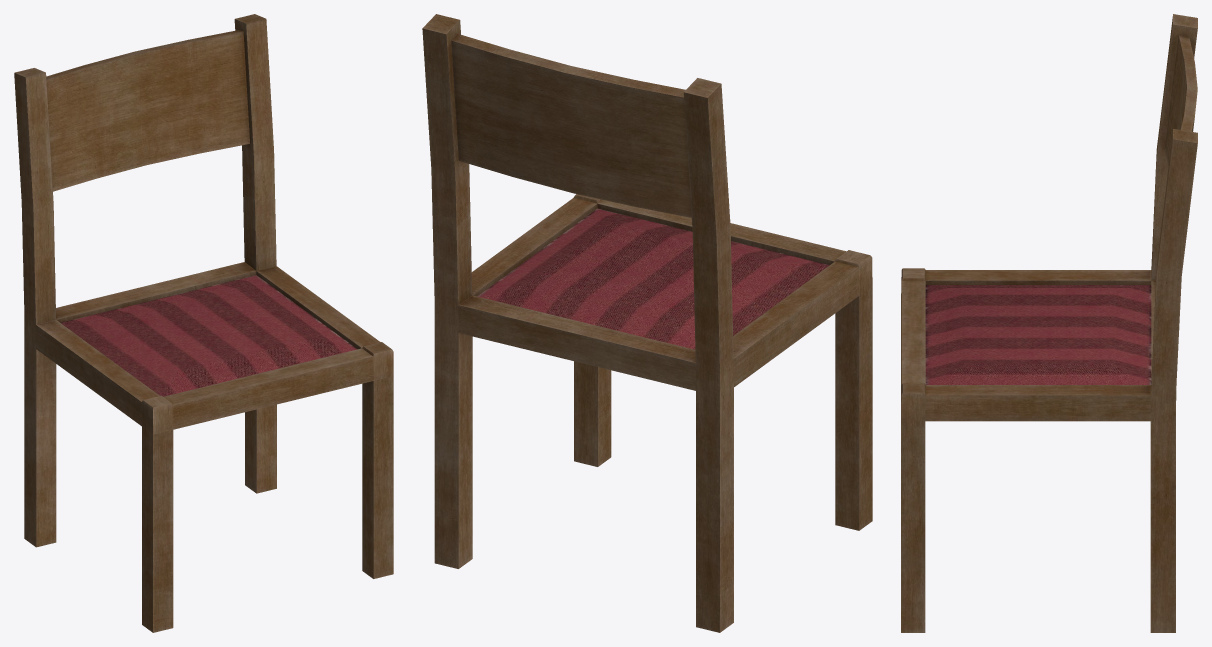
The model's file is SM_Chair_02.glb.
The picture shows the model from 3 angles, left to right: view 1: azimuth 30°, elevation 25°; view 2: azimuth 150°, elevation 25°; view 3: azimuth 270°, elevation 25°; orthographic projection. The views are drawn at different scales.
Visible parts, largest first — view 1: SM_Chair_02; view 2: SM_Chair_02; view 3: SM_Chair_02.
Boxes of the visible parts, bbox=[...] form: SM_Chair_02: bbox=[14, 14, 393, 632]; SM_Chair_02: bbox=[422, 14, 872, 632]; SM_Chair_02: bbox=[901, 14, 1197, 632].
Size of the model in its own units: 0.539 by 0.9894 by 0.5391.
Materials: 1 (1 with a texture image).
